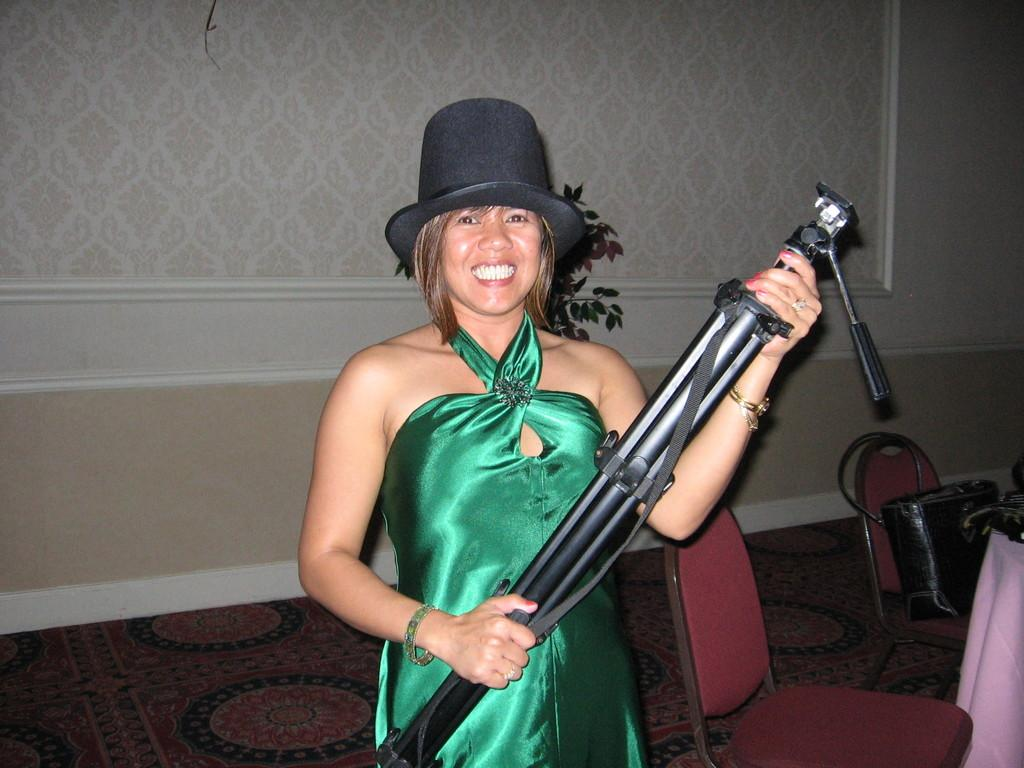Hat: (382, 82, 588, 264)
